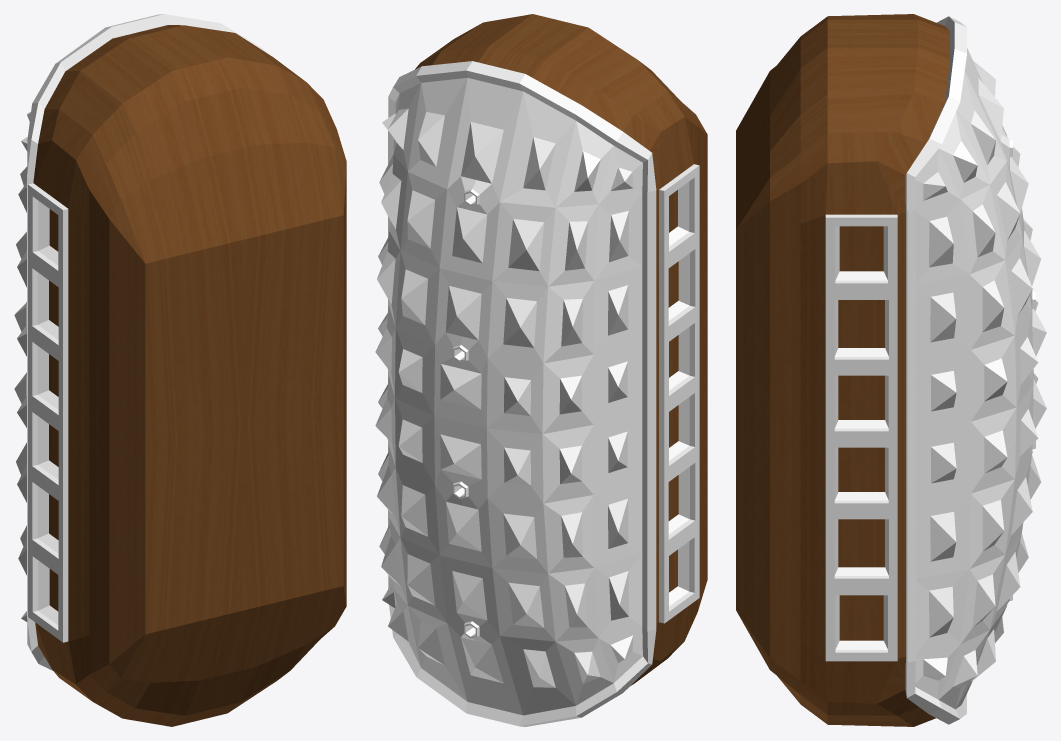
File: body_10.fbx
The picture shows the model from 3 angles, left to right: view 1: azimuth 30°, elevation 25°; view 2: azimuth 150°, elevation 25°; view 3: azimuth 270°, elevation 25°; orthographic projection. The views are drawn at different scales.
Parts seen in each view (by area): view 1: Cube.106; view 2: Cube.106; view 3: Cube.106.
Part boxes in pixels (<box>): Cube.106: <box>14,14,346,726</box>; Cube.106: <box>375,14,707,726</box>; Cube.106: <box>736,14,1046,726</box>.
Bounding box in the file's own units: 263 × 599 × 251.
